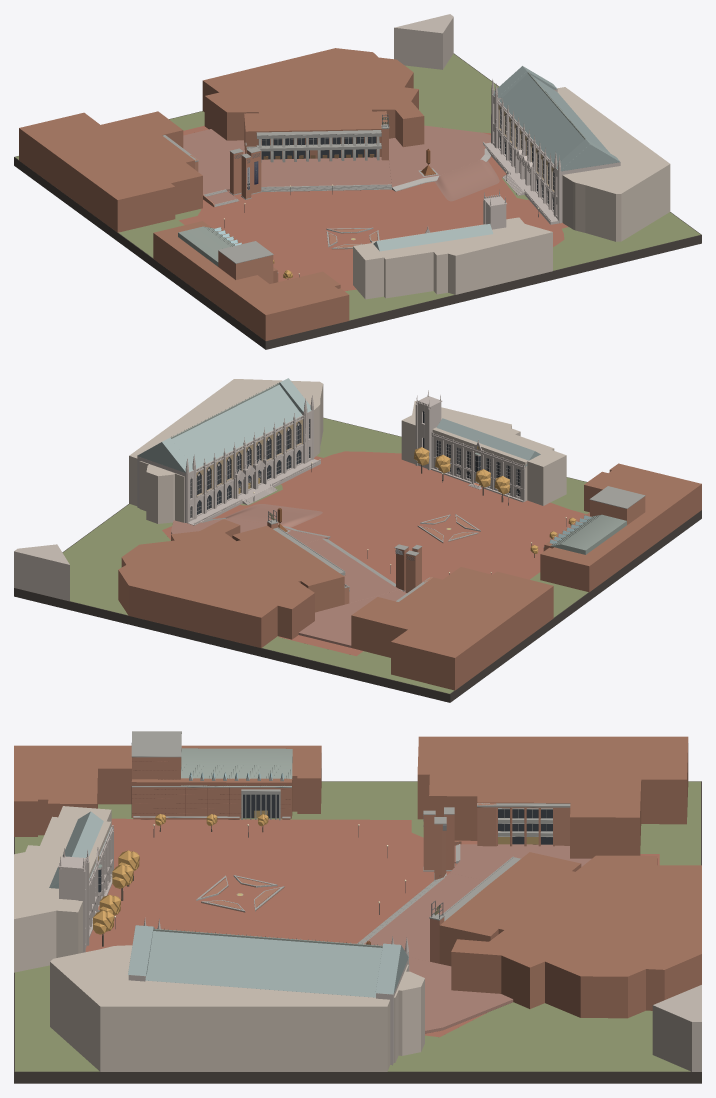
Rendered from red-square.glb.
3 renders of one model, top to bottom at view 1: azimuth 30°, elevation 25°; view 2: azimuth 150°, elevation 25°; view 3: azimuth 270°, elevation 25°, orthographic. The views are drawn at different scales.
Parts seen in each view (by area): view 1: blocks_brick, blocks_stone, plaza, lawn, landmarks_M_paverbrick, base, suzzallo_M_slate, suzzallo_M_stone, kane_M_paverbrick, kane_M_concrete, blocks_back, landmarks_M_brick (+8 smaller); view 2: blocks_brick, plaza, lawn, blocks_stone, suzzallo_M_stone, base, suzzallo_M_slate, gerberding_M_stone, landmarks_M_paverbrick, blocks_back, kane_M_paverbrick, suzzallo_M_glass (+10 smaller); view 3: blocks_brick, blocks_stone, plaza, lawn, suzzallo_M_slate, base, landmarks_M_paverbrick, meany_M_brick, blocks_back, meany_M_roofmetal, kane_M_paverbrick, gerberding_M_stone (+12 smaller).
Boxes of the visible parts, x1,y1,x2,y2 form: blocks_brick: (19,48,424,340); blocks_stone: (353,87,670,299); plaza: (179,125,568,291); lawn: (15,53,700,320); landmarks_M_paverbrick: (183,125,499,204); base: (14,53,701,349); suzzallo_M_slate: (493,66,620,171); suzzallo_M_stone: (483,79,620,224); kane_M_paverbrick: (261,157,391,186); kane_M_concrete: (245,124,391,191); blocks_back: (394,14,453,69); landmarks_M_brick: (203,150,377,249); blocks_brick: (118,463,701,690); plaza: (162,451,586,656); lawn: (63,418,588,693); blocks_stone: (129,379,566,523); suzzallo_M_stone: (137,395,320,525); base: (14,417,701,702); suzzallo_M_slate: (137,378,311,472); gerberding_M_stone: (415,390,525,502); landmarks_M_paverbrick: (171,504,406,647); blocks_back: (14,544,69,601); kane_M_paverbrick: (304,539,399,603); suzzallo_M_glass: (190,419,309,517); blocks_brick: (14,736,701,1018); blocks_stone: (14,806,424,1071); plaza: (85,818,659,1037); lawn: (15,781,700,1071); suzzallo_M_slate: (128,925,408,997); base: (14,781,701,1083); landmarks_M_paverbrick: (409,844,591,1033); meany_M_brick: (131,757,291,819); blocks_back: (652,985,701,1071); meany_M_roofmetal: (181,748,292,786); kane_M_paverbrick: (364,873,483,961); gerberding_M_stone: (58,825,113,952).
Bounding box in the file's own units: 210 × 38.29 × 210.
53 materials, 2 textured.
